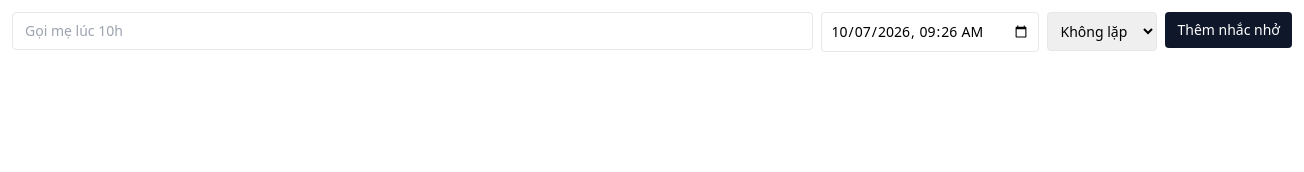
Test: ReminderForm › rejects an empty title
Click the button "Thêm nhắc nhở". click: (1229, 30)
box: [1166,12,1292,48]
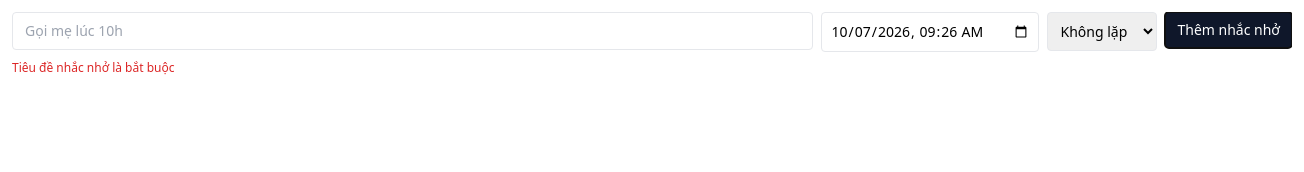
Check: the text "Tiêu đề nhắc nhở là bắt buộc" is shown, box [12,59,174,76]
